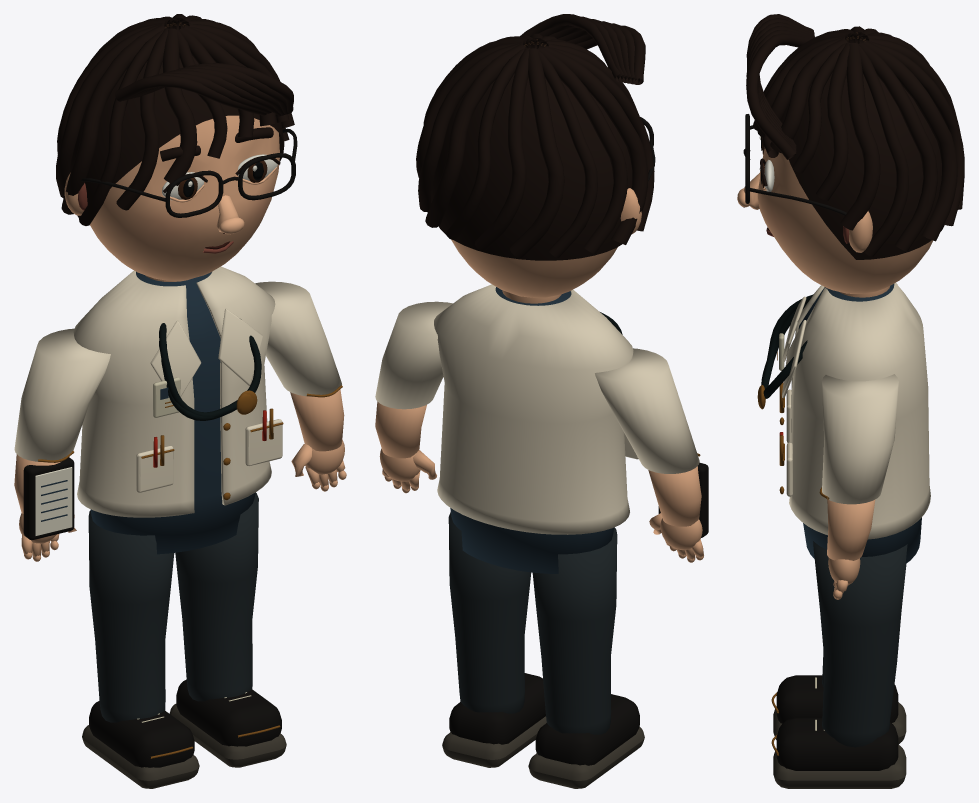
File: doctor-02.glb
3 renders of one model, left to right at view 1: azimuth 30°, elevation 25°; view 2: azimuth 150°, elevation 25°; view 3: azimuth 270°, elevation 25°, orthographic.
Visible parts, largest first — view 1: Head, Body, LegL, LegR, ArmL, ArmR; view 2: Head, Body, LegL, LegR, ArmL, ArmR; view 3: Head, Body, LegR, ArmR, LegL.
Boxes of the visible parts, <box> form: Head: <box>56,14,297,280</box>; Body: <box>38,266,342,554</box>; LegL: <box>82,510,199,788</box>; LegR: <box>169,492,286,767</box>; ArmL: <box>14,328,110,561</box>; ArmR: <box>255,281,346,491</box>; Head: <box>416,14,655,297</box>; Body: <box>434,284,700,573</box>; LegL: <box>528,527,644,788</box>; LegR: <box>442,512,546,767</box>; ArmL: <box>595,348,708,562</box>; ArmR: <box>375,301,452,493</box>; Head: <box>737,14,964,293</box>; Body: <box>757,283,930,563</box>; LegR: <box>771,541,907,788</box>; ArmR: <box>822,374,898,599</box>; LegL: <box>771,650,906,744</box>.
Bounding box in the file's own units: 0.6343 × 1.35 × 0.387.
